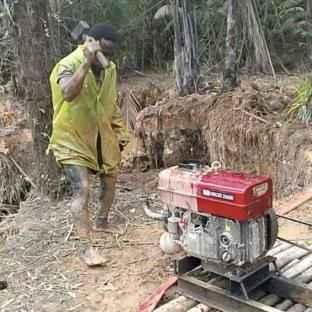Person: (46, 11, 131, 270)
ProcessingEquipment: (141, 158, 303, 303)
